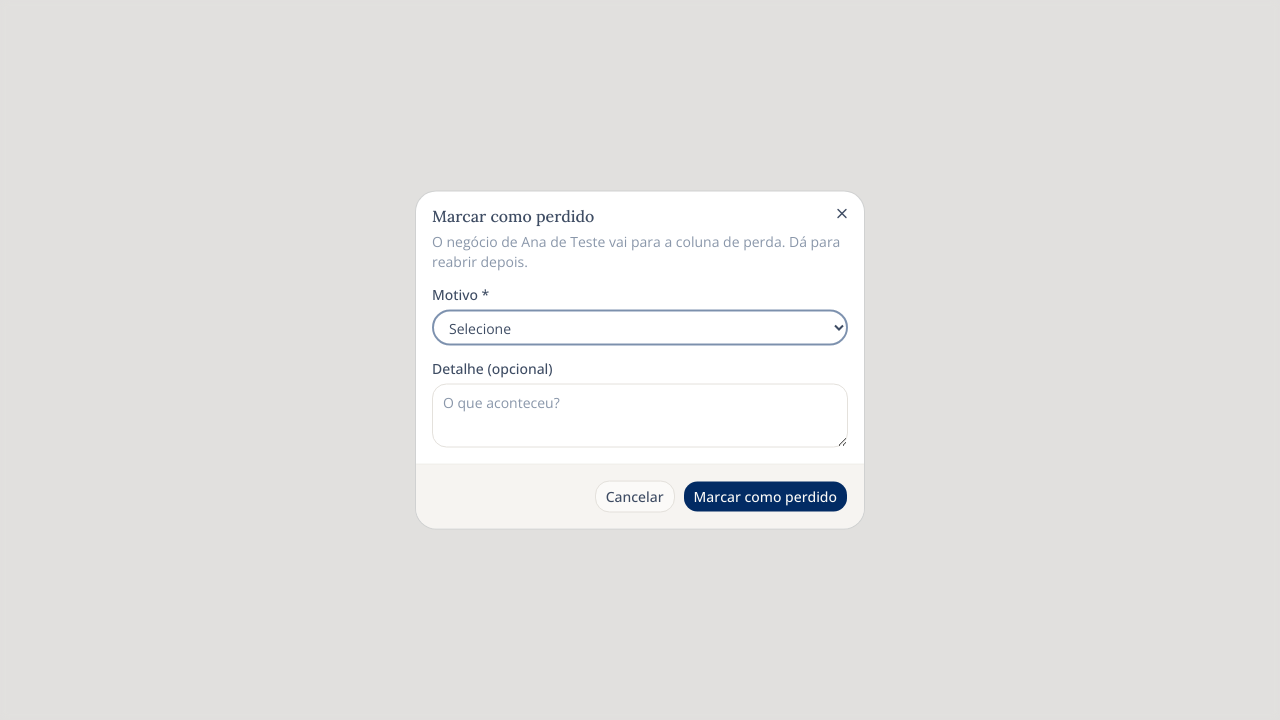
Test case: DialogoDePerda › sem motivo não grava
This screenshot has width=1280, height=720.
Click the button "Marcar como perdido". click: x=765, y=496
box: x1=683 y1=480 x2=848 y2=512
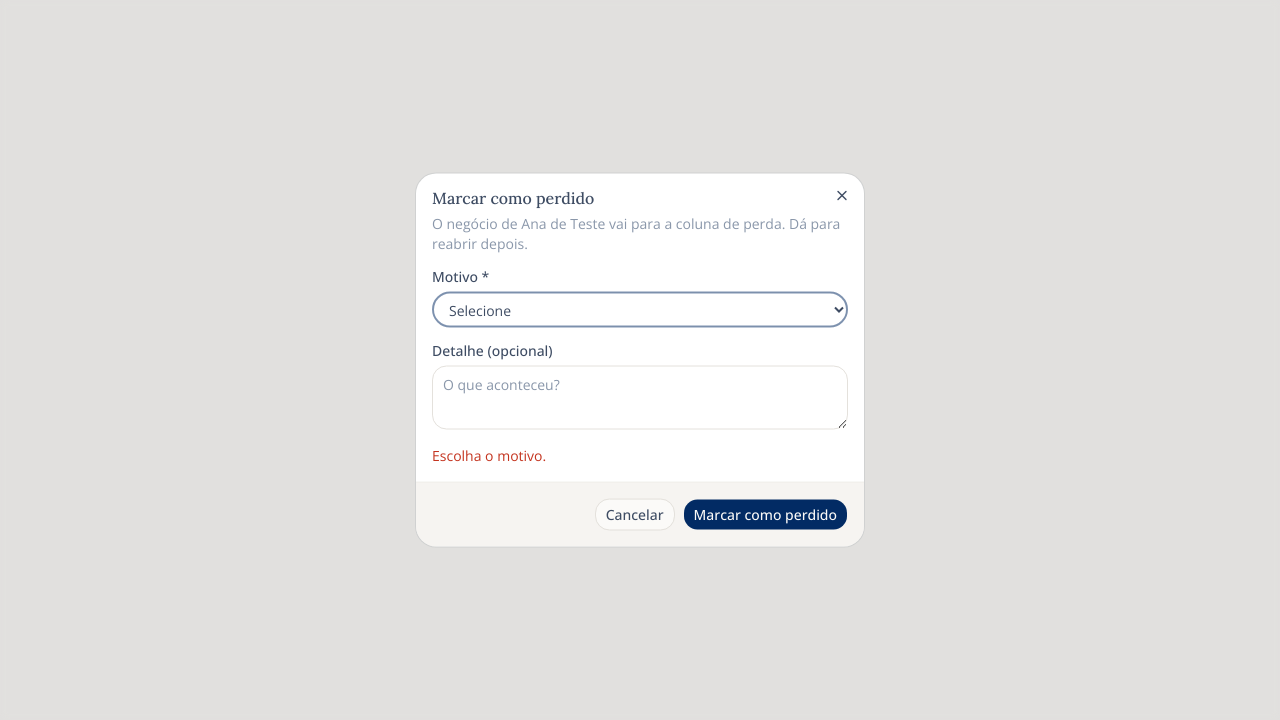
Expected: the text "Escolha o motivo." is shown, x1=432 y1=446 x2=546 y2=464
